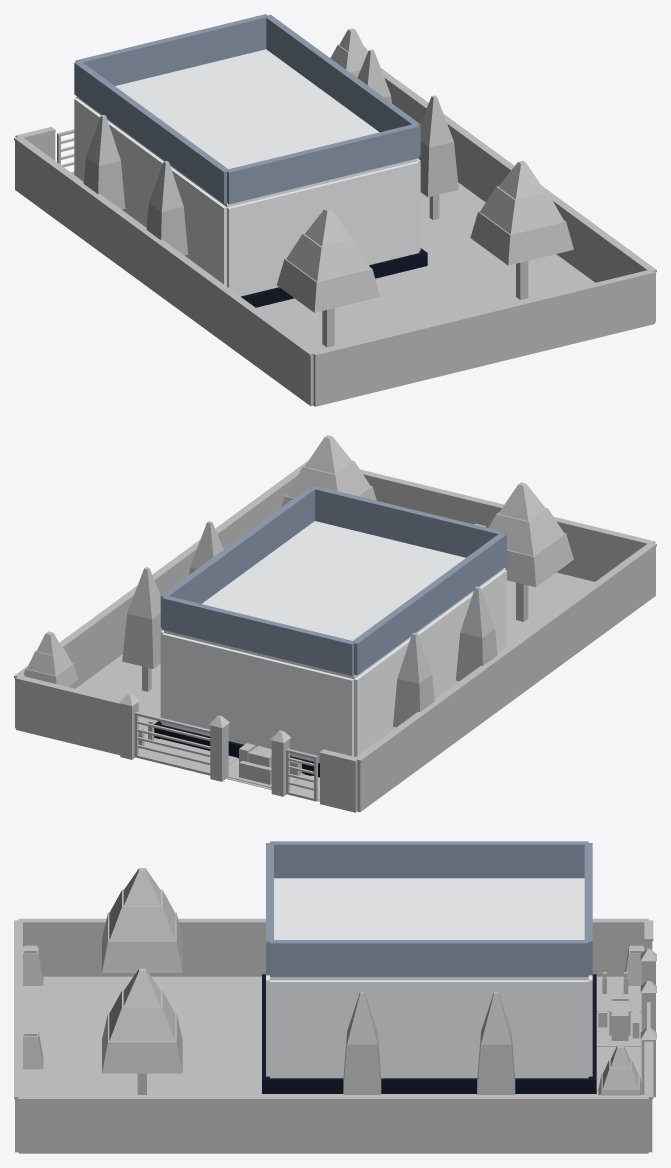
File: DES-CANON-01_3D_Model.obj
The picture shows the model from 3 angles, top to bottom: view 1: azimuth 30°, elevation 25°; view 2: azimuth 150°, elevation 25°; view 3: azimuth 270°, elevation 25°; orthographic projection. The views are drawn at different scales.
Visible parts, largest first — view 1: undefined_solid, slab_roof_top_0_0, compound_wall_rear_wall, compound_wall_left_wall, landscape_lawn_strip_1, parapet_wall_fp0_2, parapet_wall_fp0_0, parapet_wall_fp0_3, compound_wall_right_wall, parapet_wall_fp0_1, landscape_lawn_strip_3, veg_tree_neem_shade_12_canopy_base (+17 smaller); view 2: undefined_solid, slab_roof_top_0_0, compound_wall_left_wall, parapet_wall_fp0_0, parapet_wall_fp0_2, parapet_wall_fp0_3, compound_wall_rear_wall, compound_wall_front_1_wall, parapet_wall_fp0_1, compound_wall_right_wall, compound_wall_left_coping, landscape_lawn_strip_3 (+25 smaller); view 3: compound_wall_right_wall, undefined_solid, landscape_lawn_strip_1, slab_roof_top_0_0, parapet_wall_fp0_3, parapet_wall_fp0_1, compound_wall_left_wall, slab_foundation_plinth, compound_wall_right_coping, veg_tree_neem_shade_12_canopy_base, veg_tree_neem_shade_11_canopy_base, veg_tree_neem_shade_12_canopy_mid (+21 smaller).
Boxes of the visible parts, bbox=[...] form: undefined_solid: bbox=[74, 96, 420, 296]; slab_roof_top_0_0: bbox=[77, 49, 417, 207]; compound_wall_rear_wall: bbox=[313, 275, 654, 406]; compound_wall_left_wall: bbox=[15, 141, 313, 406]; landscape_lawn_strip_1: bbox=[256, 248, 595, 351]; parapet_wall_fp0_2: bbox=[226, 124, 419, 204]; parapet_wall_fp0_0: bbox=[75, 14, 268, 85]; parapet_wall_fp0_3: bbox=[74, 62, 229, 203]; compound_wall_right_wall: bbox=[385, 81, 655, 322]; parapet_wall_fp0_1: bbox=[265, 14, 420, 155]; landscape_lawn_strip_3: bbox=[420, 182, 485, 261]; veg_tree_neem_shade_12_canopy_base: bbox=[470, 211, 573, 265]; undefined_solid: bbox=[160, 568, 506, 763]; slab_roof_top_0_0: bbox=[164, 521, 503, 679]; compound_wall_left_wall: bbox=[357, 547, 655, 812]; parapet_wall_fp0_0: bbox=[162, 596, 354, 675]; parapet_wall_fp0_2: bbox=[312, 486, 505, 557]; parapet_wall_fp0_3: bbox=[351, 533, 506, 675]; compound_wall_rear_wall: bbox=[365, 477, 644, 581]; compound_wall_front_1_wall: bbox=[16, 680, 120, 755]; parapet_wall_fp0_1: bbox=[160, 486, 314, 627]; compound_wall_right_wall: bbox=[15, 480, 294, 728]; compound_wall_left_coping: bbox=[354, 542, 656, 762]; landscape_lawn_strip_3: bbox=[76, 654, 160, 730]; compound_wall_right_wall: bbox=[18, 1101, 648, 1153]; undefined_solid: bbox=[266, 975, 592, 1078]; landscape_lawn_strip_1: bbox=[23, 976, 269, 1094]; slab_roof_top_0_0: bbox=[270, 878, 588, 980]; parapet_wall_fp0_3: bbox=[270, 841, 588, 878]; parapet_wall_fp0_1: bbox=[270, 940, 588, 976]; compound_wall_left_wall: bbox=[23, 924, 645, 976]; slab_foundation_plinth: bbox=[262, 974, 596, 1093]; compound_wall_right_coping: bbox=[18, 1095, 648, 1101]; veg_tree_neem_shade_12_canopy_base: bbox=[102, 1013, 182, 1073]; veg_tree_neem_shade_11_canopy_base: bbox=[102, 912, 182, 972]; veg_tree_neem_shade_12_canopy_mid: bbox=[109, 990, 175, 1041].
Bounding box in the file's own units: 12.24 × 4.72 × 18.44.
